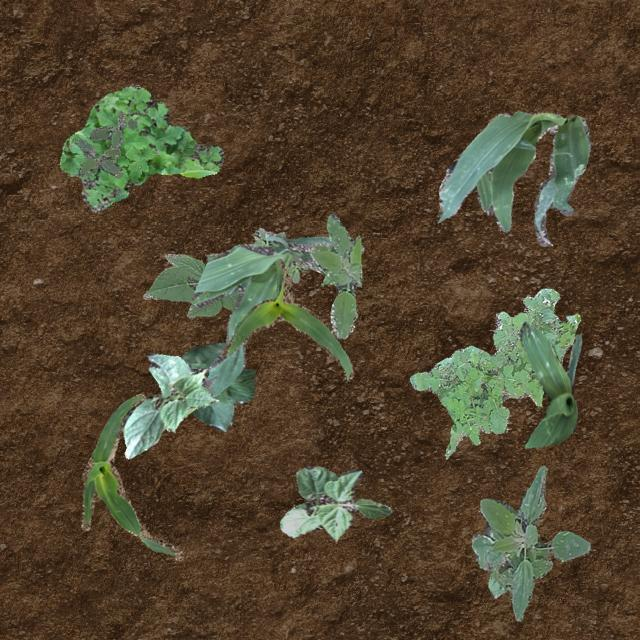crop: (190, 230, 330, 396), (436, 110, 590, 246), (470, 464, 590, 620), (80, 392, 182, 560), (220, 258, 352, 378), (120, 352, 218, 458), (278, 464, 391, 540), (518, 320, 580, 448), (180, 342, 254, 431), (142, 253, 240, 317), (488, 570, 507, 596)
weed: (408, 288, 580, 458), (58, 84, 224, 212), (308, 212, 361, 338), (76, 110, 136, 178), (252, 226, 308, 282)
